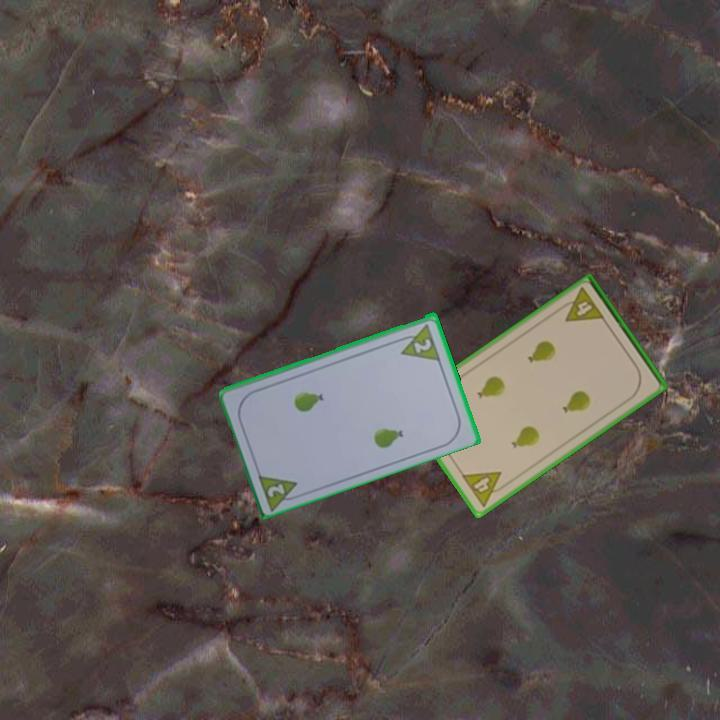2p: (410, 334, 435, 356), (264, 479, 288, 500)
4p: (458, 468, 512, 510), (555, 284, 607, 327)
